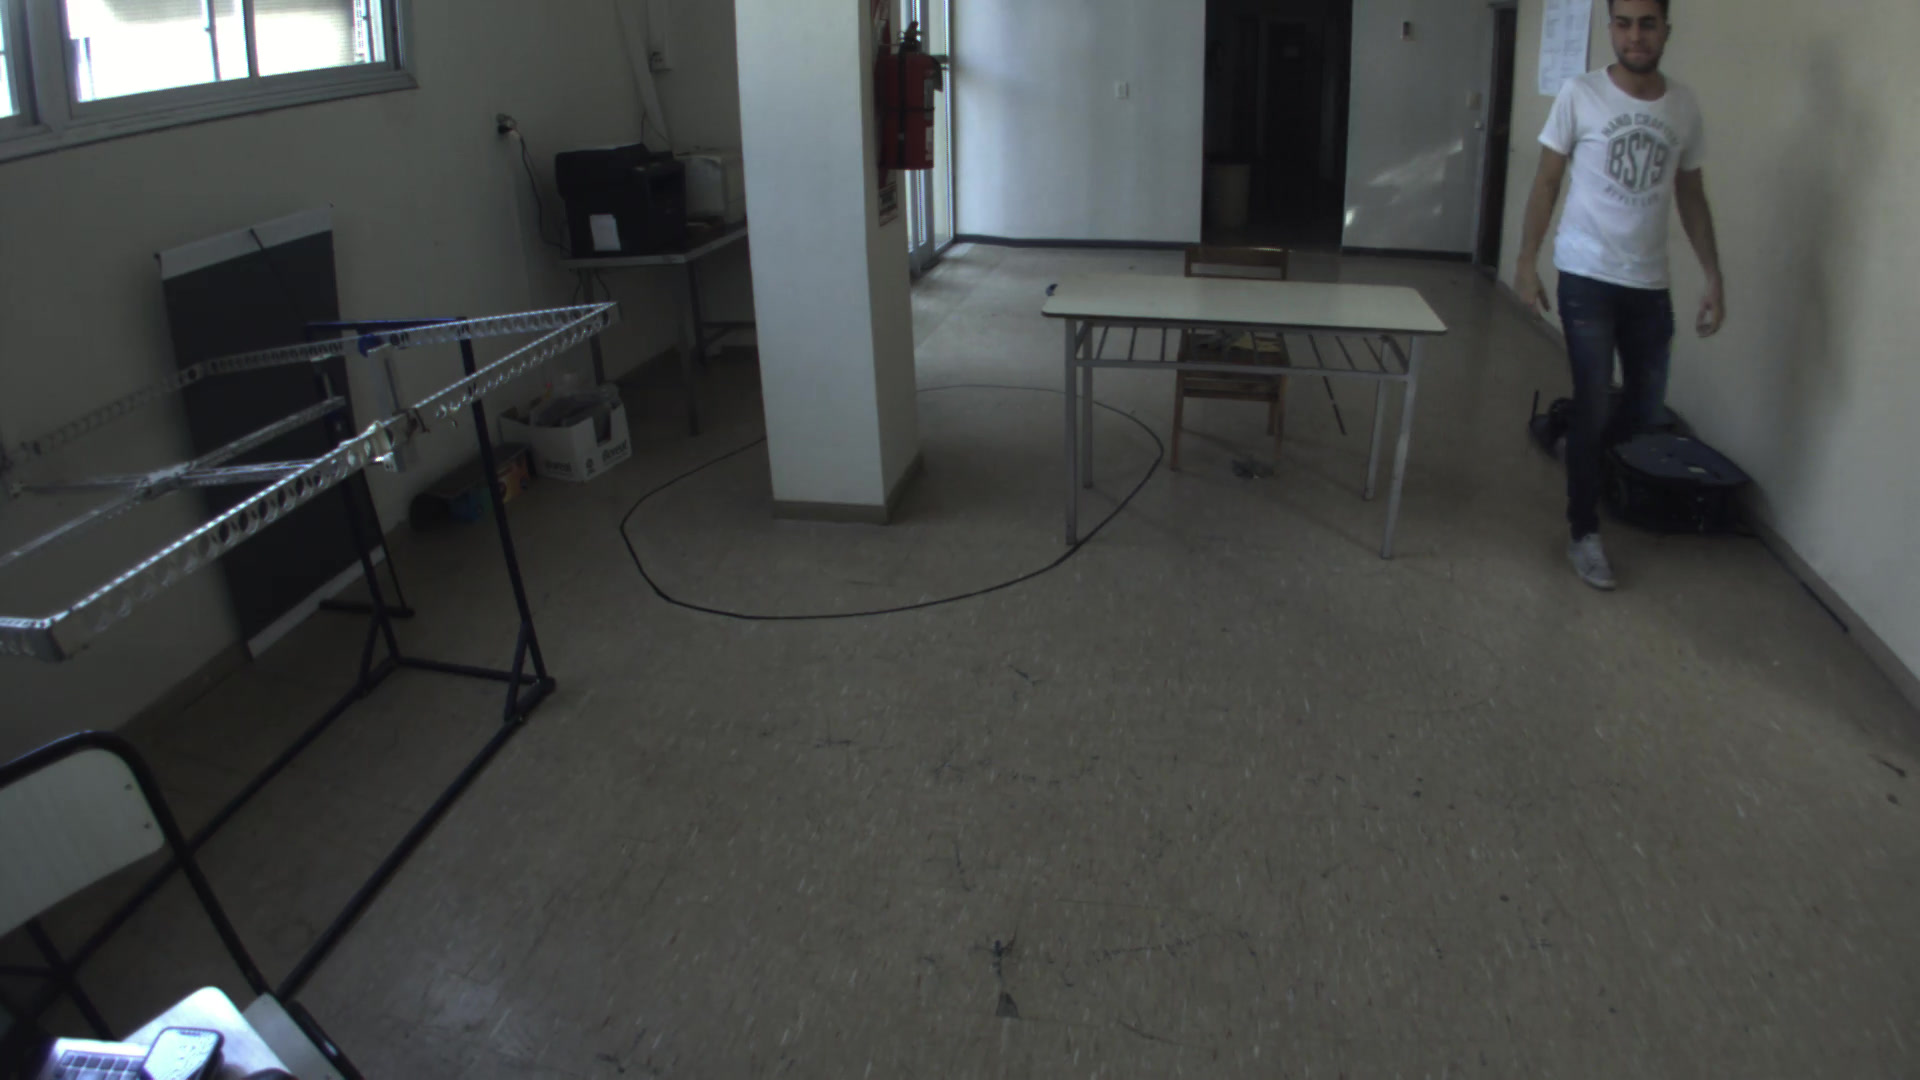hand: (1494, 257, 1575, 336), (1691, 269, 1737, 338)
